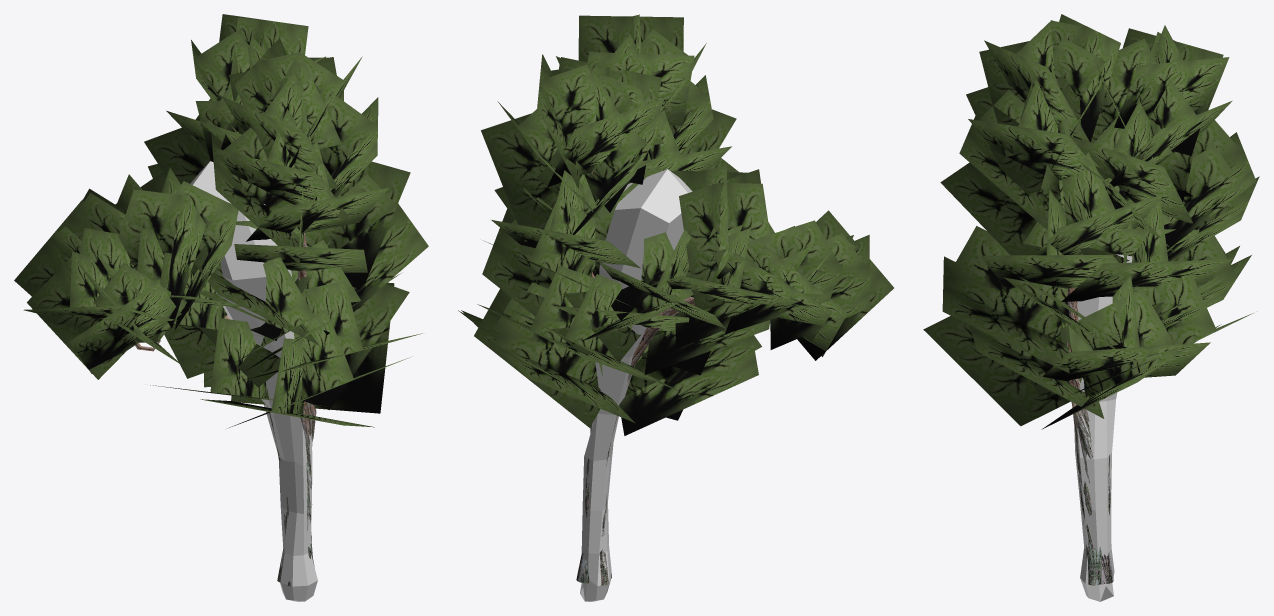
The model's file is TreeCollider_02_v3.fbx.
The picture shows the model from 3 angles, left to right: view 1: azimuth 30°, elevation 25°; view 2: azimuth 150°, elevation 25°; view 3: azimuth 270°, elevation 25°; orthographic projection.
Visible parts, largest first — view 1: tree.010, Cube.003; view 2: tree.010, Cube.003; view 3: tree.010, Cube.003.
Part boxes in pixels (<box>): tree.010: <box>14,14,428,586</box>; Cube.003: <box>190,161,317,601</box>; tree.010: <box>458,14,893,585</box>; Cube.003: <box>580,169,692,601</box>; tree.010: <box>923,14,1259,585</box>; Cube.003: <box>1074,254,1132,601</box>.
Bounding box in the file's own units: 1129 × 1580 × 845.
